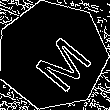M_NW: (18, 21, 87, 89)
